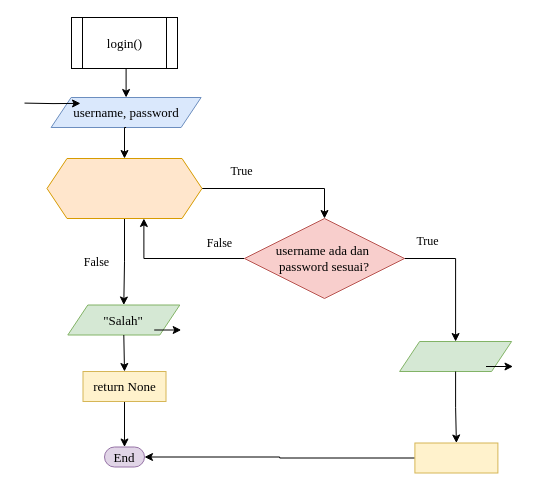
Some shapes in this 539 by 491 pixel diagram are drawn without their labels. The centre of each missing label's shape, as x and y in pixels:
"Login berhasil!": point (455, 356)
Cek tiap elemen pada data akun: point (124, 188)
return elemen itu: point (456, 457)
